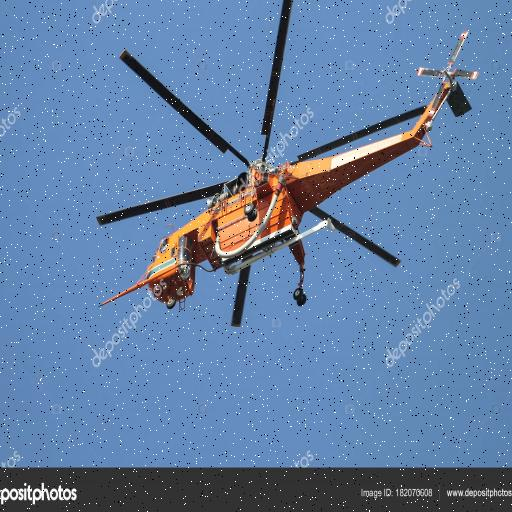helicopter: (85, 1, 480, 331)
